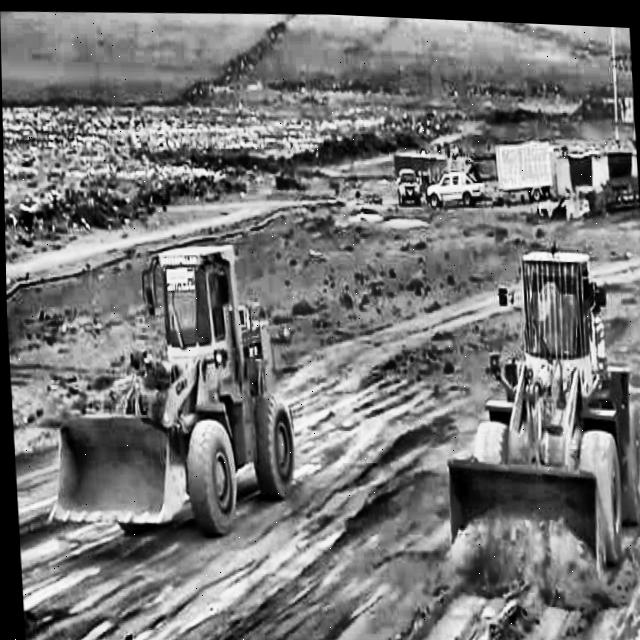buldozerpayloadergrader: (36, 228, 299, 546), (430, 237, 640, 578)
